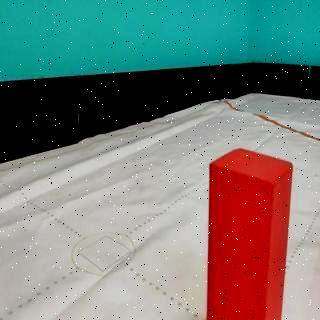redbox: (208, 147, 292, 320)
